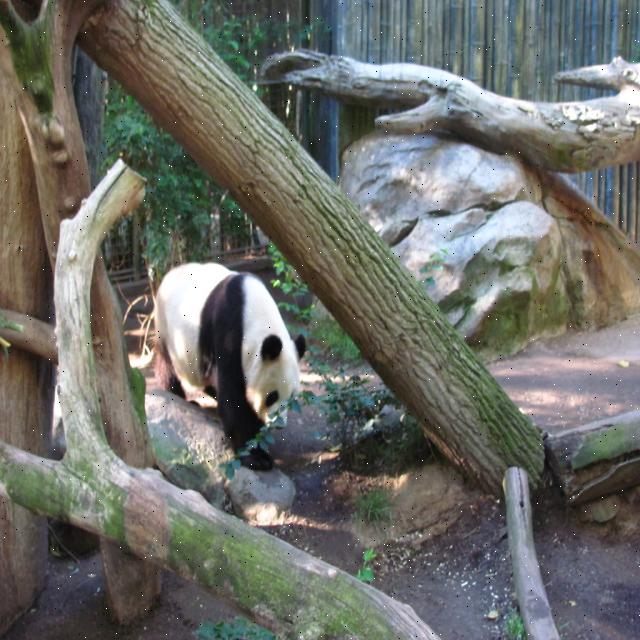panda: (152, 260, 305, 470)
